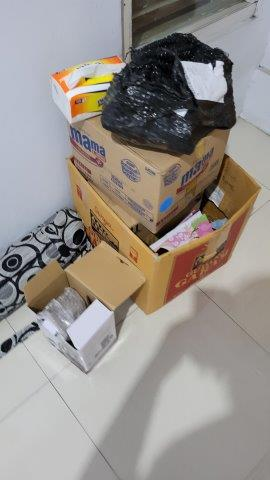kardus: (64, 117, 260, 314), (21, 244, 143, 375)
kertas: (179, 60, 229, 103)
